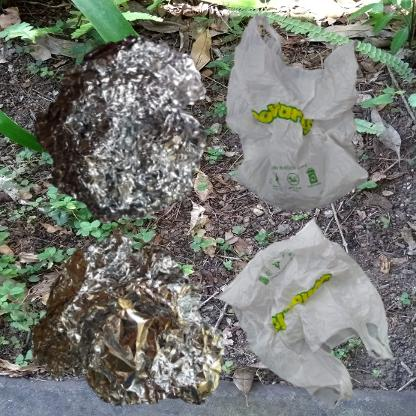aluminio: (10, 10, 248, 262), (10, 213, 243, 416)
bolsa: (213, 10, 392, 226), (213, 213, 400, 412)
